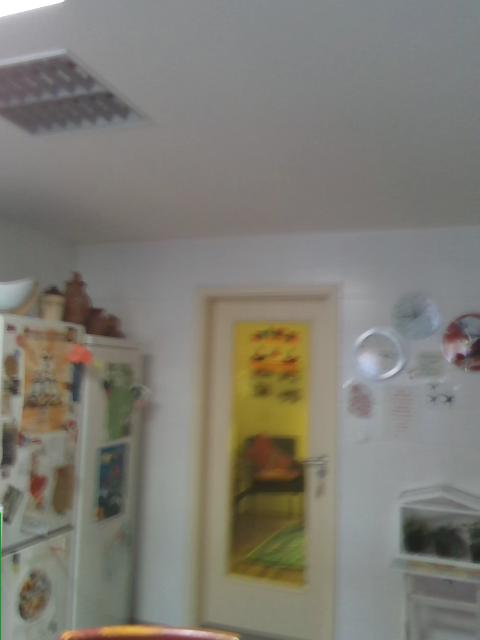closed_door: (189, 280, 341, 639)
